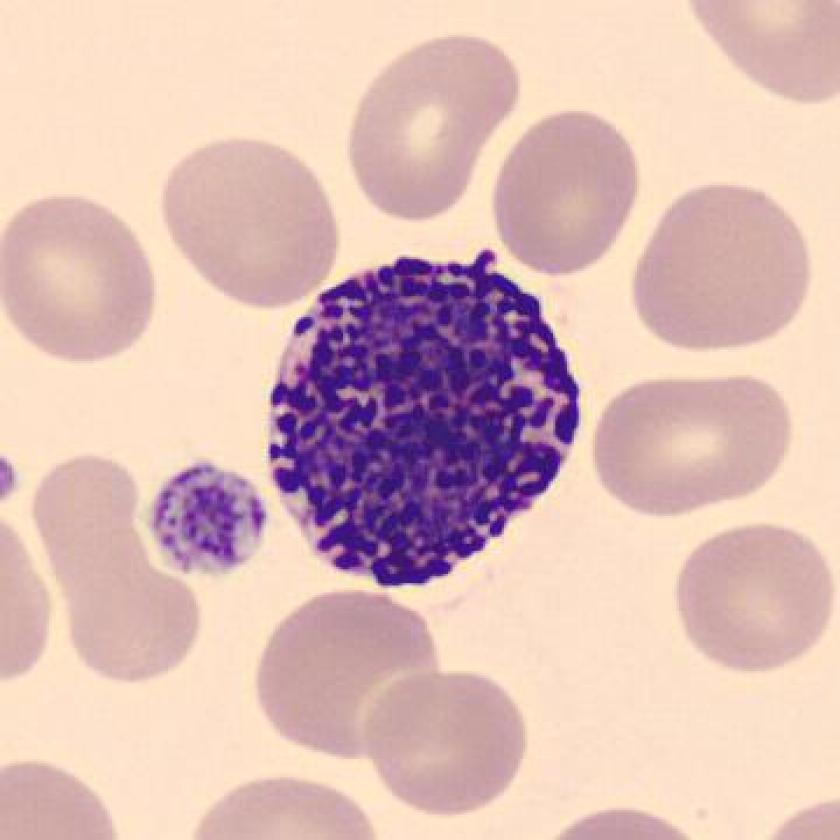basophil: (270, 249, 585, 594)
